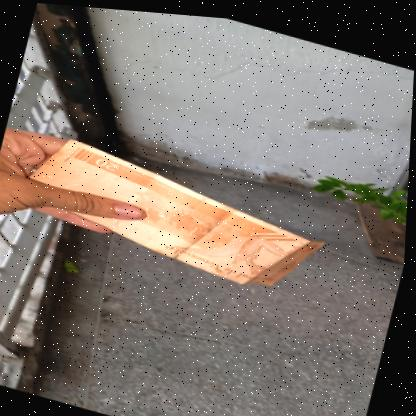twenty-back-vef: (15, 126, 336, 297)
